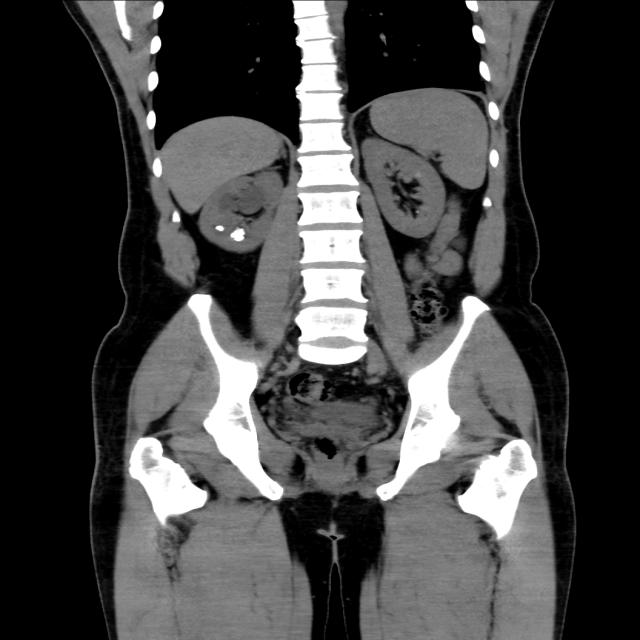kidneystone: (231, 228, 245, 241), (215, 225, 224, 231)
